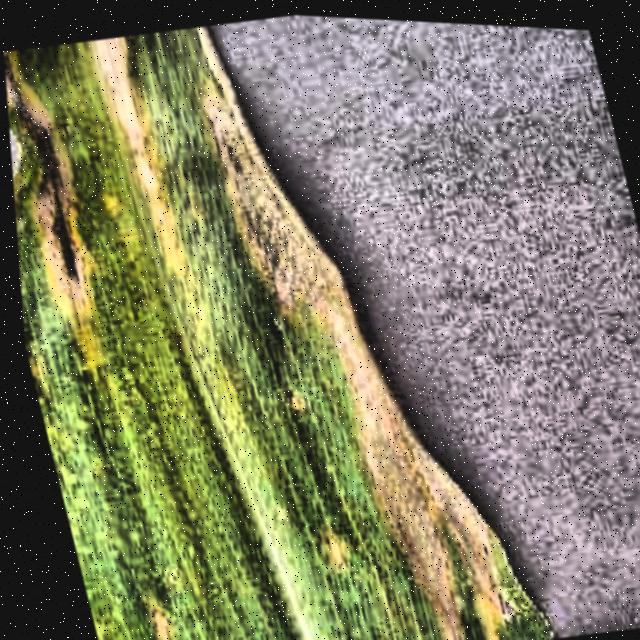blight: (0, 0, 512, 640)
